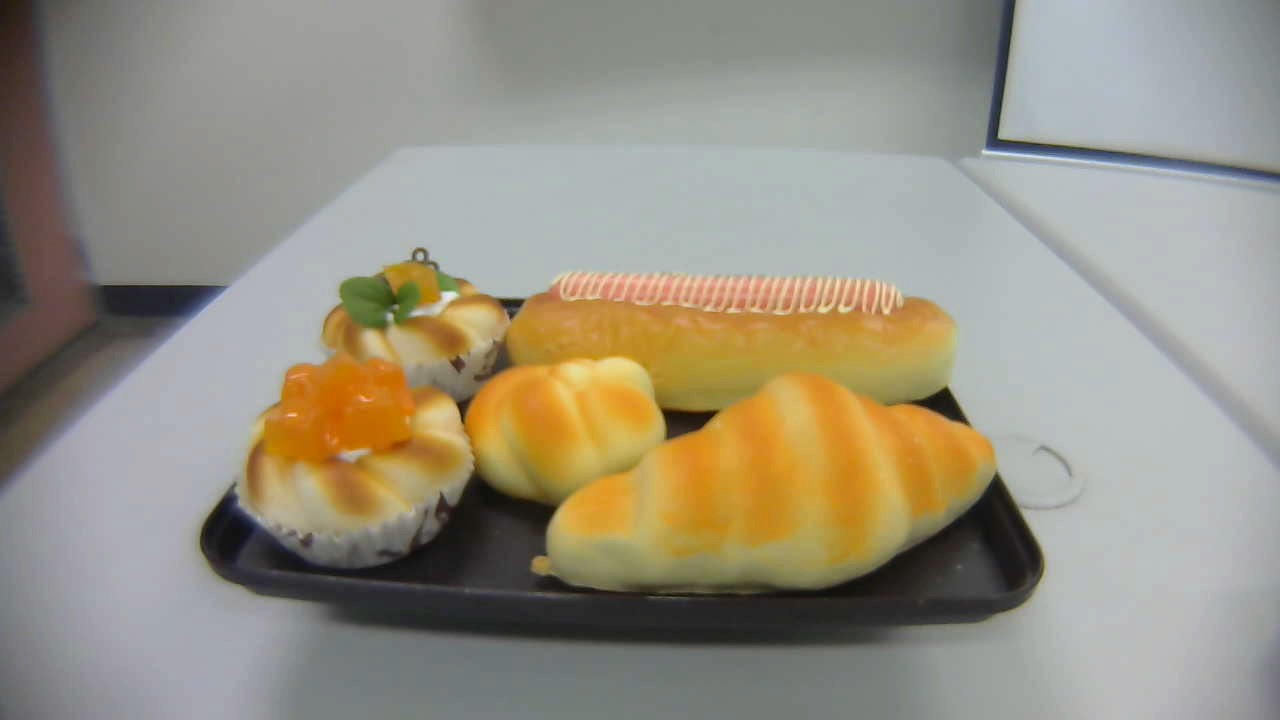croissant: (530, 372, 998, 596)
fruit tart: (321, 247, 510, 403)
hot dog: (508, 272, 961, 414)
mango tart: (235, 352, 474, 569)
twist bread: (464, 357, 670, 503)
